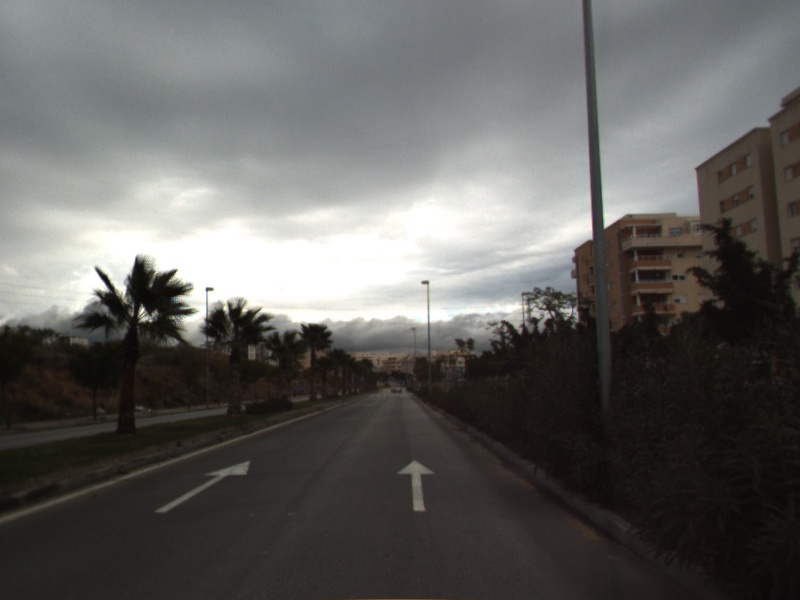STRAIGHT: (152, 459, 251, 514), (396, 458, 438, 513)
